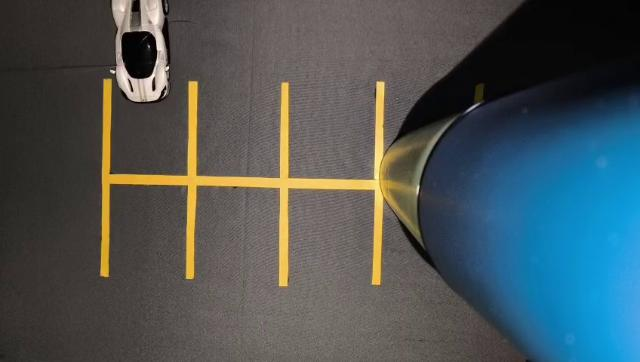toy_car: (97, 0, 213, 127)
